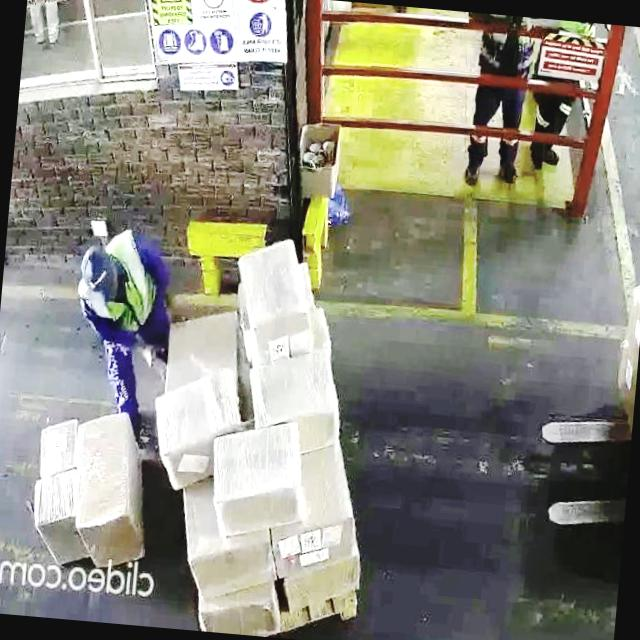Box: (74, 412, 144, 564), (212, 416, 310, 524), (152, 364, 242, 464), (238, 231, 308, 350), (260, 338, 338, 429), (192, 520, 271, 600), (270, 506, 356, 578), (281, 548, 363, 614), (198, 578, 283, 638), (32, 466, 83, 559), (39, 413, 85, 471)
